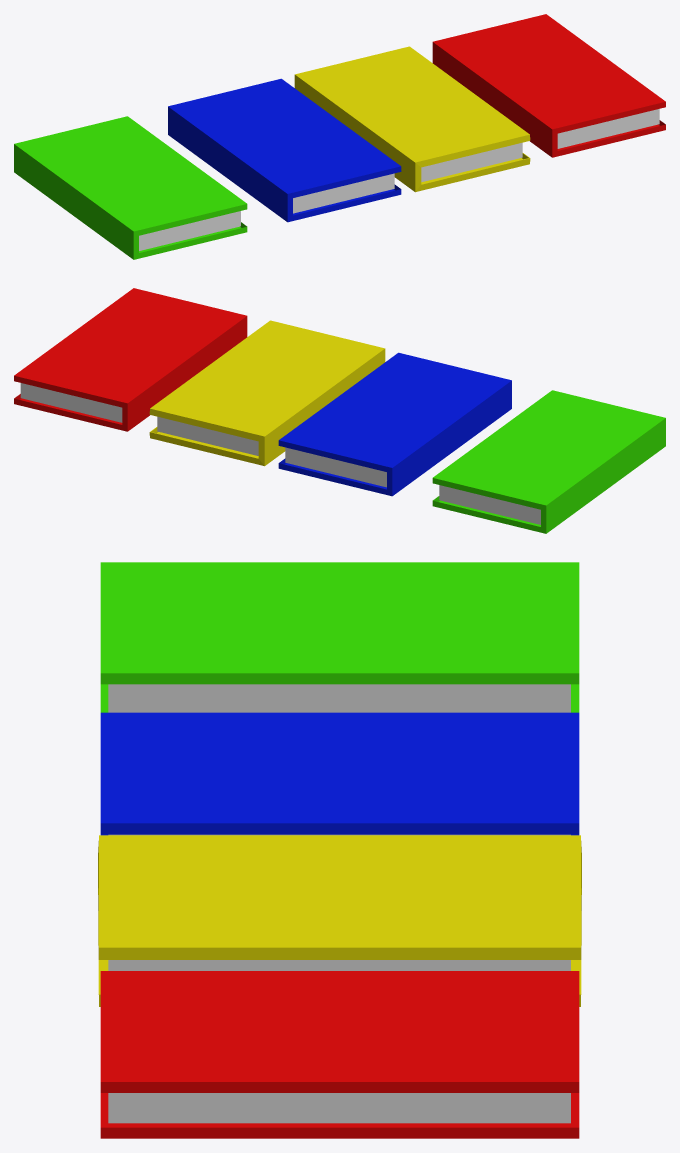
Rendered from libros (1).fbx.
3 renders of one model, top to bottom at view 1: azimuth 30°, elevation 25°; view 2: azimuth 150°, elevation 25°; view 3: azimuth 270°, elevation 25°, orthographic. The views are drawn at different scales.
Visible parts, largest first — view 1: Cube, Cube.007, Cube.005, Cube.003, Cube.002, Cube.006, Cube.004, Cube.001; view 2: Cube.007, Cube, Cube.005, Cube.003, Cube.002, Cube.004, Cube.006, Cube.001; view 3: Cube.005, Cube.003, Cube.007, Cube, Cube.002, Cube.006, Cube.001, Cube.004.
Part boxes in pixels (x1,y1,x2,y2): Cube: [168, 78, 401, 222]; Cube.007: [14, 116, 247, 259]; Cube.005: [432, 14, 665, 157]; Cube.003: [294, 46, 530, 192]; Cube.002: [557, 109, 659, 148]; Cube.006: [139, 211, 240, 250]; Cube.004: [293, 173, 394, 213]; Cube.001: [421, 142, 522, 182]; Cube.007: [432, 390, 665, 533]; Cube: [278, 352, 511, 496]; Cube.005: [14, 288, 247, 431]; Cube.003: [149, 320, 385, 466]; Cube.002: [20, 383, 122, 422]; Cube.004: [285, 447, 386, 487]; Cube.006: [439, 485, 540, 524]; Cube.001: [157, 416, 258, 455]; Cube.005: [100, 971, 579, 1138]; Cube.003: [98, 835, 581, 1006]; Cube.007: [100, 562, 579, 712]; Cube: [100, 712, 579, 835]; Cube.002: [108, 1093, 570, 1123]; Cube.006: [108, 684, 570, 712]; Cube.001: [108, 960, 570, 970]; Cube.004: [108, 834, 570, 835].
Size of the model in its own units: 513 by 27.32 by 202.
